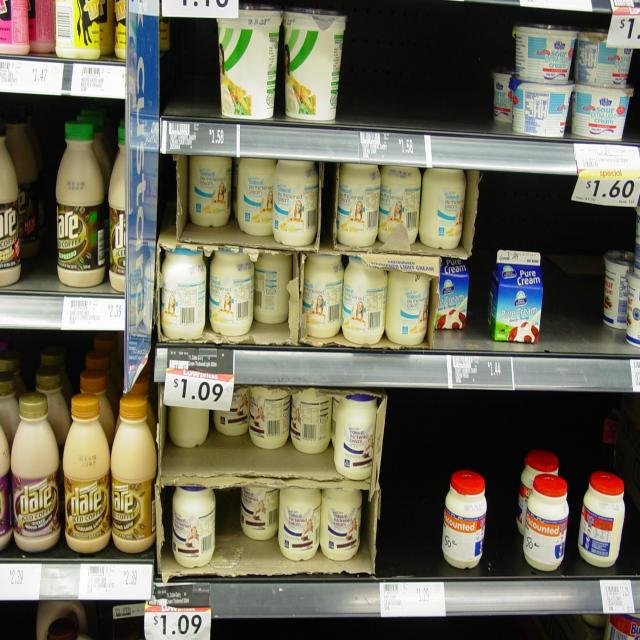void: (355, 12, 494, 122), (388, 390, 442, 568), (544, 206, 602, 346), (445, 392, 595, 446), (160, 21, 218, 119), (30, 149, 58, 286)
